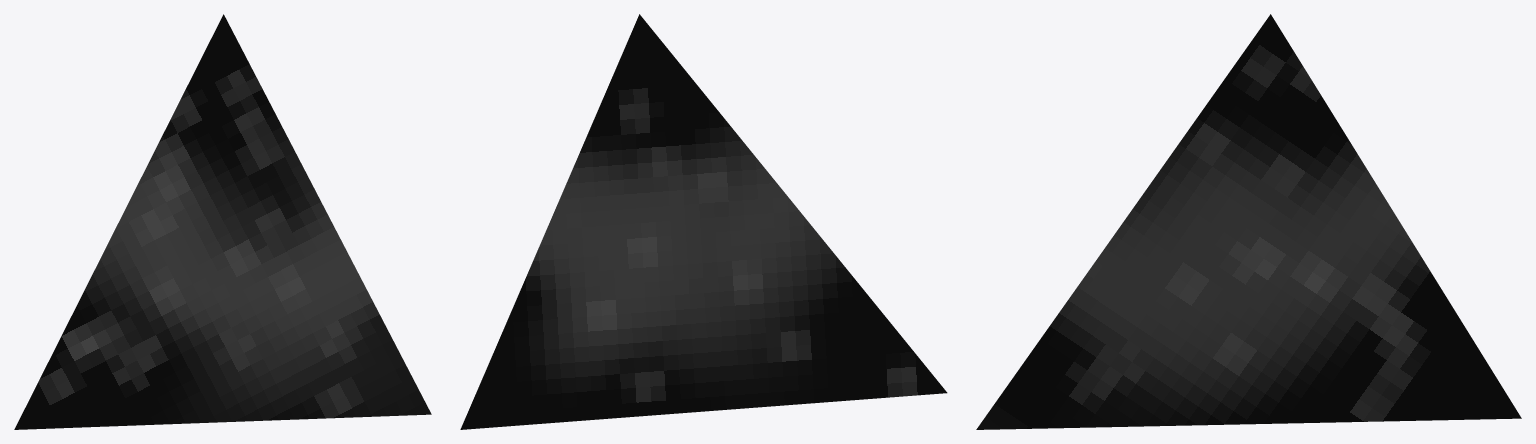
The model's file is Iron_deposit_LOW_POLY_final.fbx.
The picture shows the model from 3 angles, left to right: view 1: azimuth 30°, elevation 25°; view 2: azimuth 150°, elevation 25°; view 3: azimuth 270°, elevation 25°; orthographic projection. The views are drawn at different scales.
Parts seen in each view (by area): view 1: Cube; view 2: Cube; view 3: Cube.
Part boxes in pixels (box(x1,y1,x2,y2)): Cube: box(14, 14, 431, 429); Cube: box(460, 14, 947, 429); Cube: box(976, 14, 1521, 429).
Size of the model in its own units: 516 by 411 by 388.
1 material, 1 textured.
